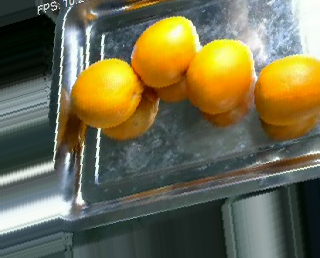Orange: (69, 56, 144, 129), (183, 38, 254, 114), (252, 52, 320, 127), (130, 14, 198, 88)
